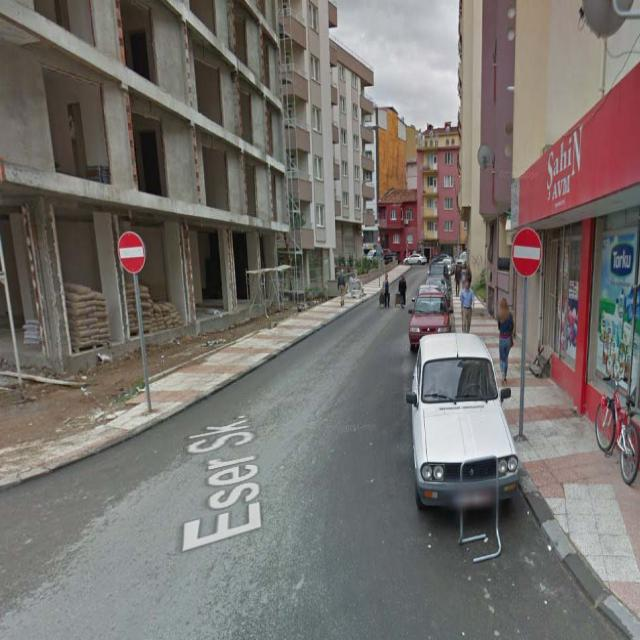girisyok: (512, 228, 542, 277), (118, 232, 144, 274)
